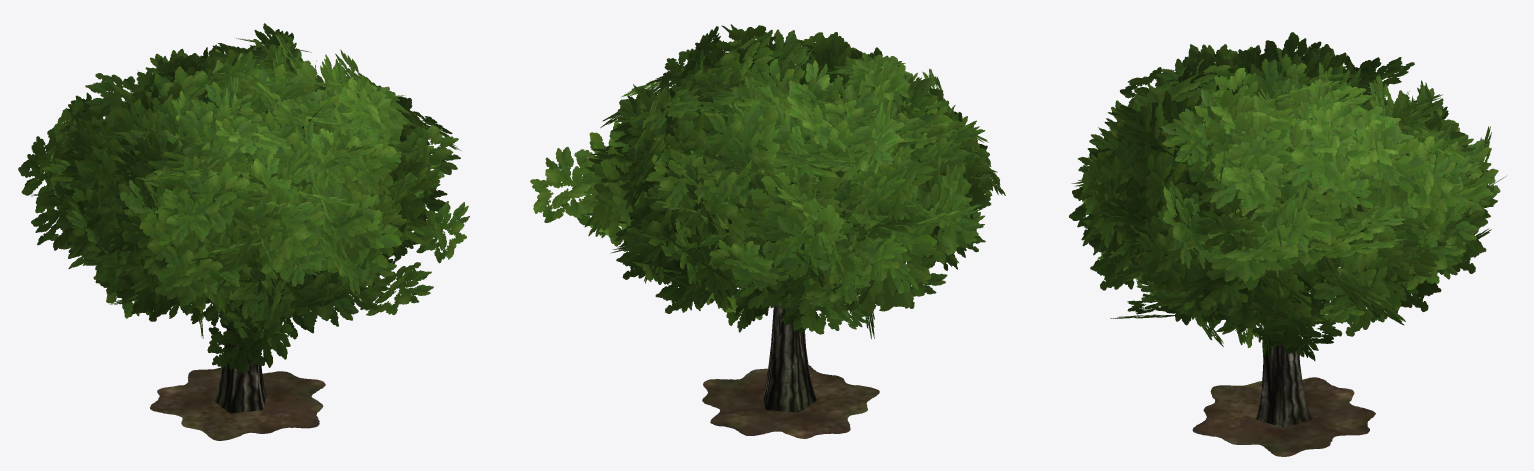
File: oak-small-lite.glb
The picture shows the model from 3 angles, left to right: view 1: azimuth 30°, elevation 25°; view 2: azimuth 150°, elevation 25°; view 3: azimuth 270°, elevation 25°; orthographic projection. The views are drawn at different scales.
Visible parts, largest first — view 1: oak_small_lite; view 2: oak_small_lite; view 3: oak_small_lite.
Boxes of the visible parts, box(x1,y1,x2,y2) form: oak_small_lite: box(18, 23, 469, 440); oak_small_lite: box(530, 24, 1005, 438); oak_small_lite: box(1069, 32, 1506, 456).
Bounding box in the file's own units: 8 × 6.8 × 7.71.
1 material, 1 textured.
